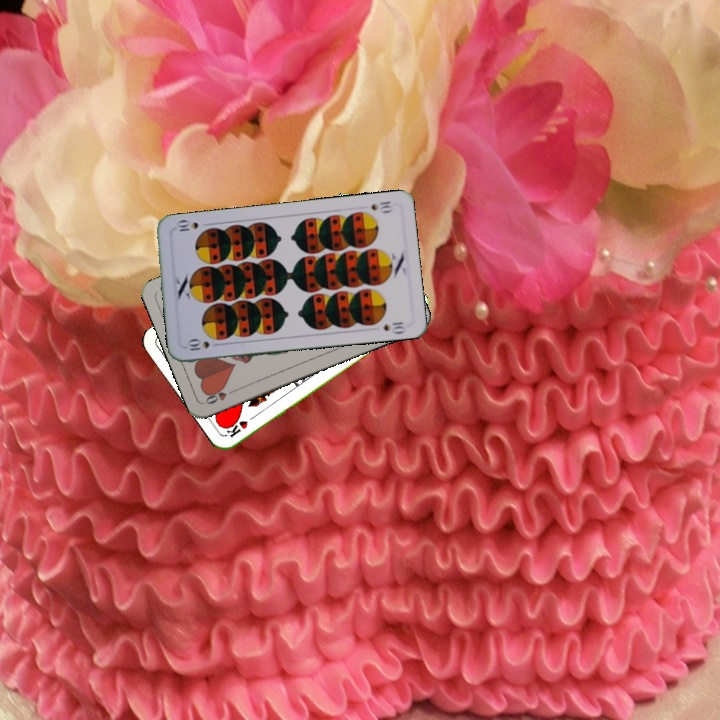HK: (222, 410, 259, 440)
HO: (201, 384, 240, 407)
S10: (182, 336, 212, 353), (367, 197, 395, 215)
